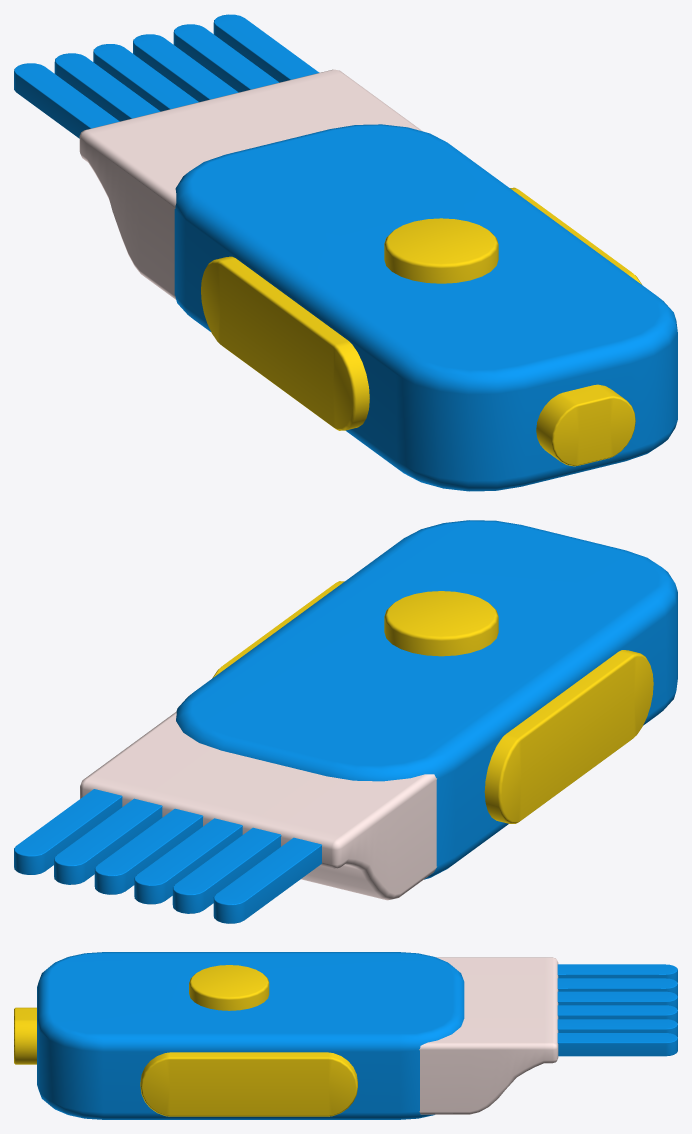
Rendered from Public_15_Clipper_1.glb.
3 views of the same model, one above another, from view 1: azimuth 30°, elevation 25°; view 2: azimuth 150°, elevation 25°; view 3: azimuth 270°, elevation 25° (orthographic). The views are drawn at different scales.
Visible parts, largest first — view 1: Public_15_Clipper_1; view 2: Public_15_Clipper_1; view 3: Public_15_Clipper_1.
Part boxes in pixels (x1,y1,x2,y2): Public_15_Clipper_1: (14,14,677,491); Public_15_Clipper_1: (14,520,677,923); Public_15_Clipper_1: (14,952,677,1119).
Size of the model in its own units: 0.8553 by 0.3758 by 2.33.
Materials: 1 (1 with a texture image).
